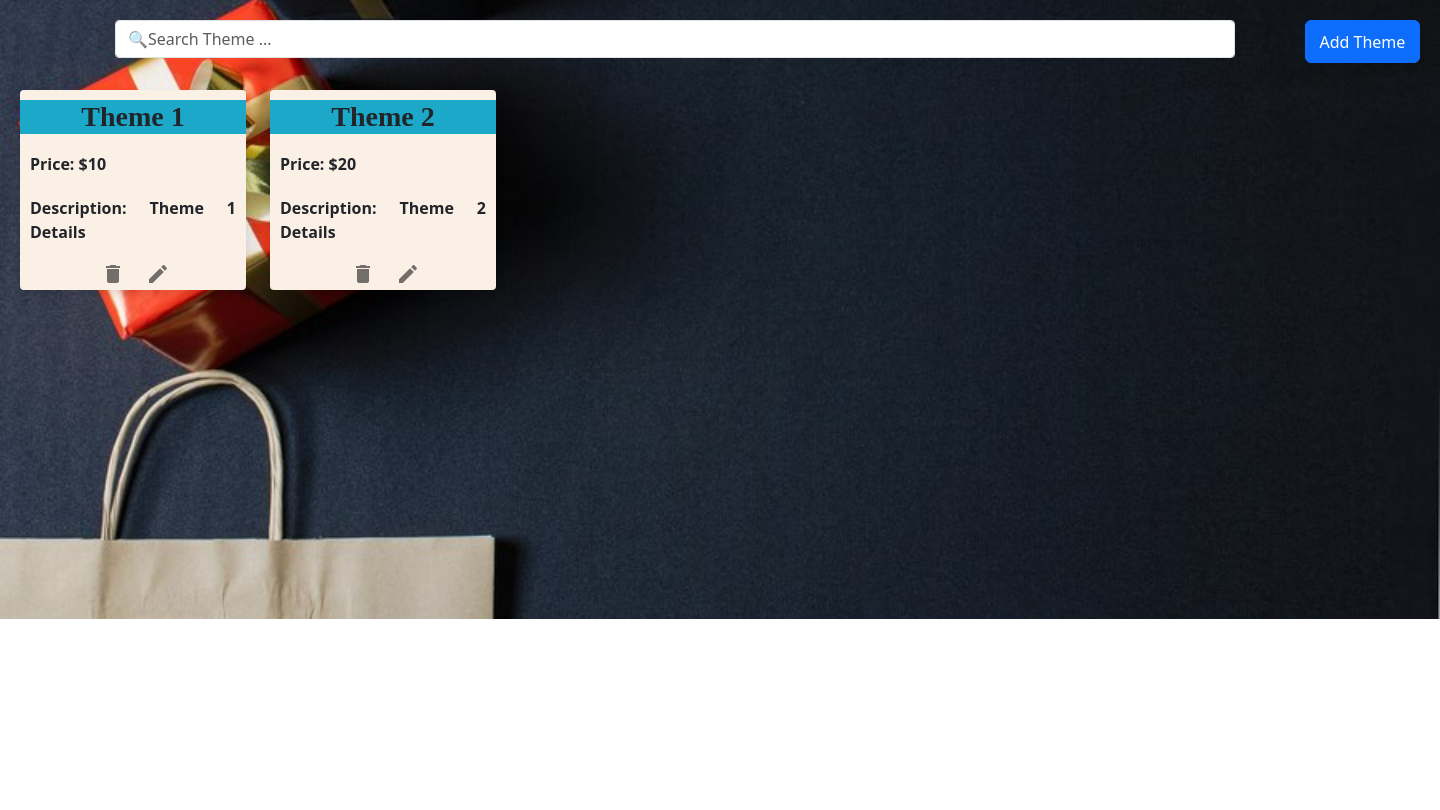
Test: ThemeDisplay Component › filters themes based on search query
Expected: the heading "Theme 1" is shown, top-left (20, 100), bottom-right (246, 134)
Expected: the heading "Theme 2" is shown, top-left (270, 100), bottom-right (496, 134)
Type "Theme 1" into the search field with placeholder "🔍Search Theme ..." at point(675, 39), box top-left (115, 20), bottom-right (1235, 58)
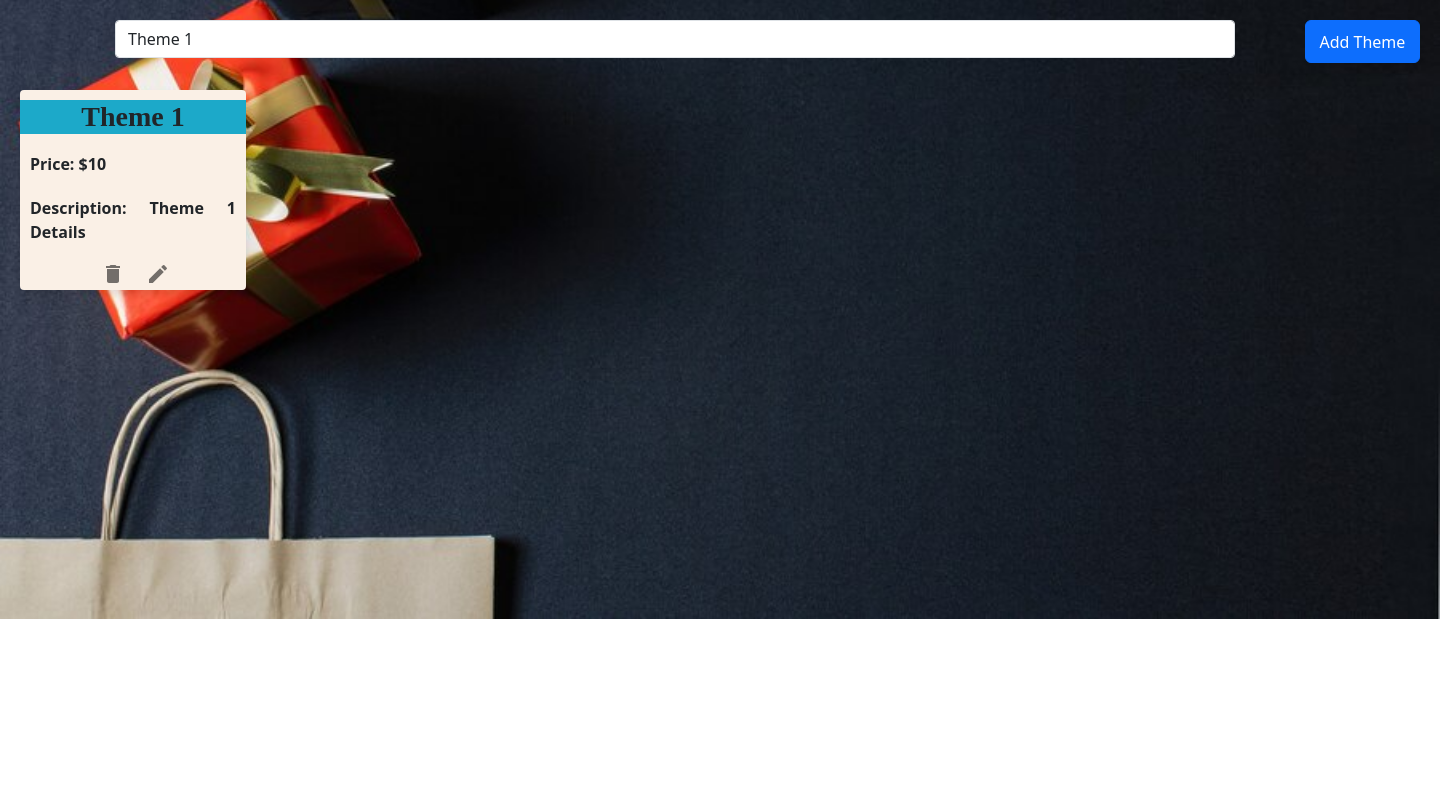
Expected: the heading "Theme 1" is shown, top-left (20, 100), bottom-right (246, 134)
Now the heading "Theme 2" is gone
